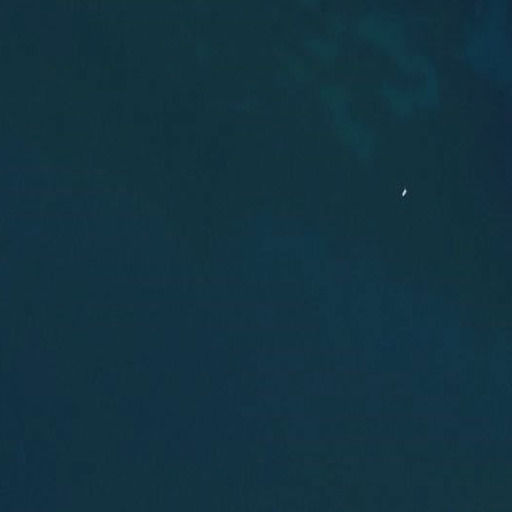ship: (398, 186, 408, 197)
